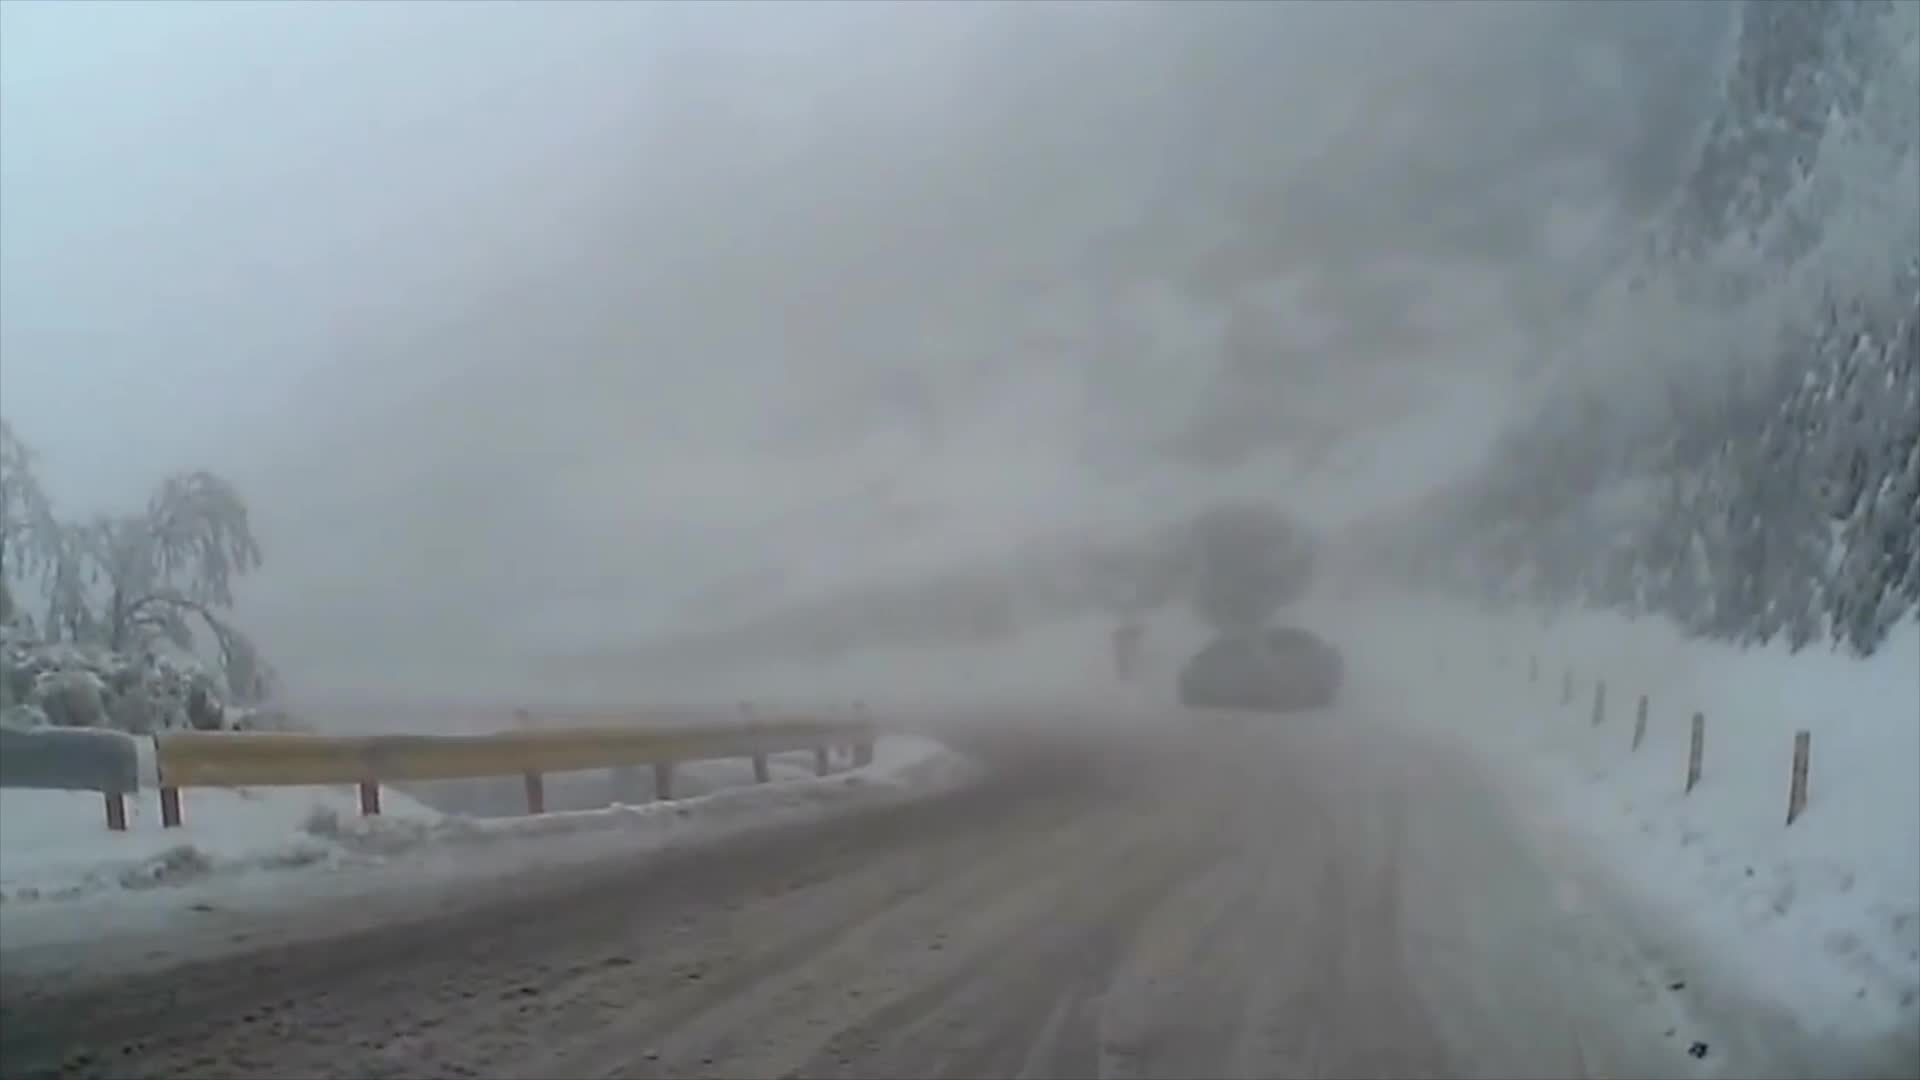vehicle: (1178, 628, 1344, 712)
